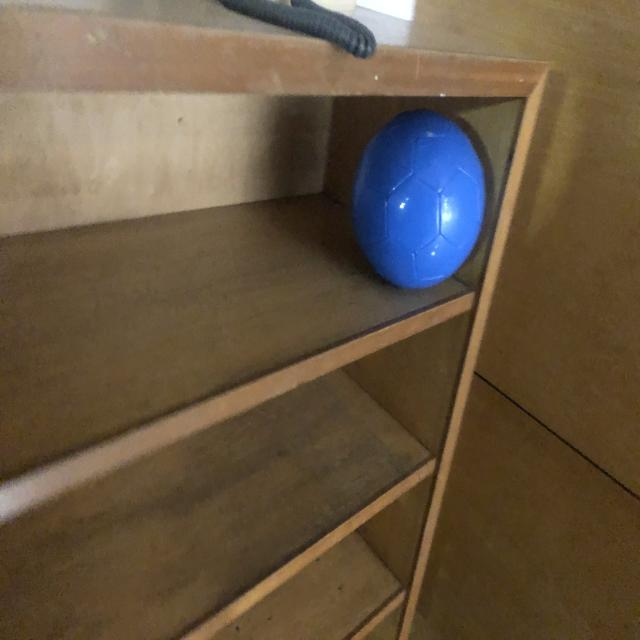blue_ball: (352, 108, 485, 287)
